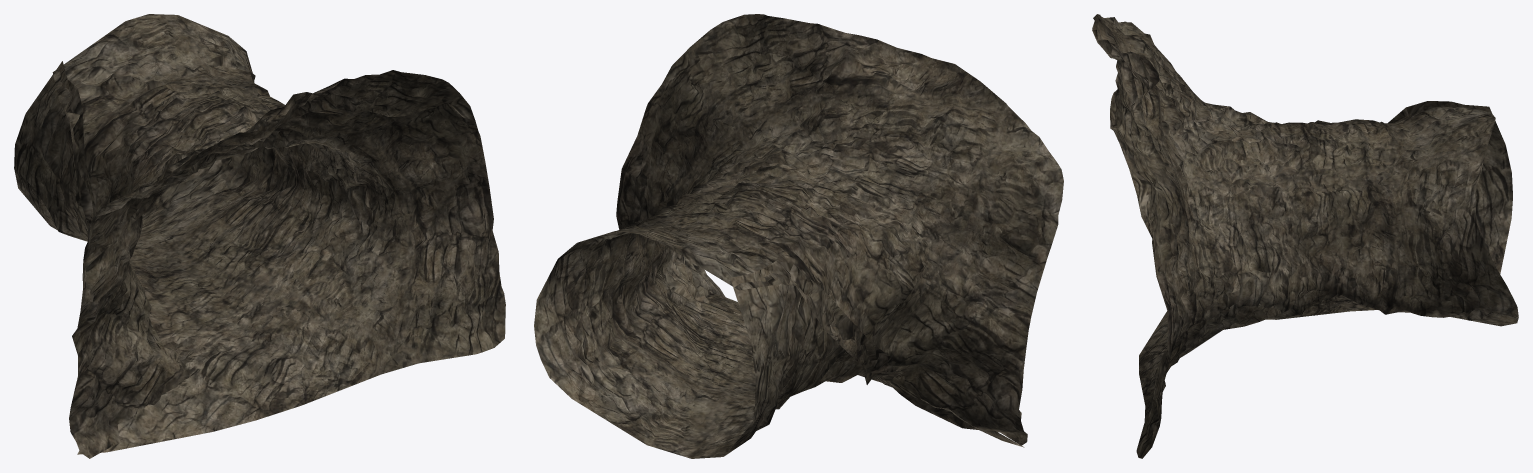
Rendered from MEP_C_Entrance_01_N.fbx.
The picture shows the model from 3 angles, left to right: view 1: azimuth 30°, elevation 25°; view 2: azimuth 150°, elevation 25°; view 3: azimuth 270°, elevation 25°; orthographic projection.
Parts seen in each view (by area): view 1: MEP_C_Entrance_01; view 2: MEP_C_Entrance_01; view 3: MEP_C_Entrance_01.
Boxes of the visible parts, x1,y1,x2,y2 form: MEP_C_Entrance_01: (14,14,505,458); MEP_C_Entrance_01: (534,14,1063,458); MEP_C_Entrance_01: (1092,14,1518,458).
Size of what is drawn, in the model's own units: 1518 by 1163 by 1298.
Materials: 1 (1 with a texture image).
